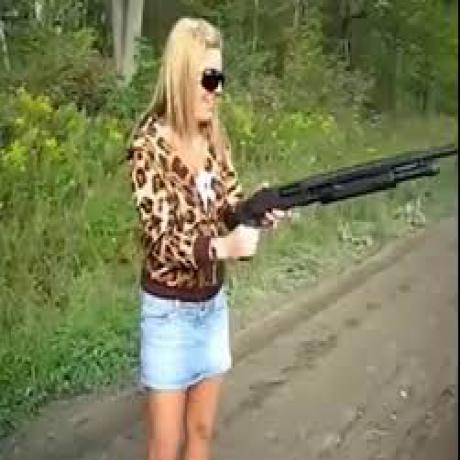Guns: (218, 142, 458, 222)
